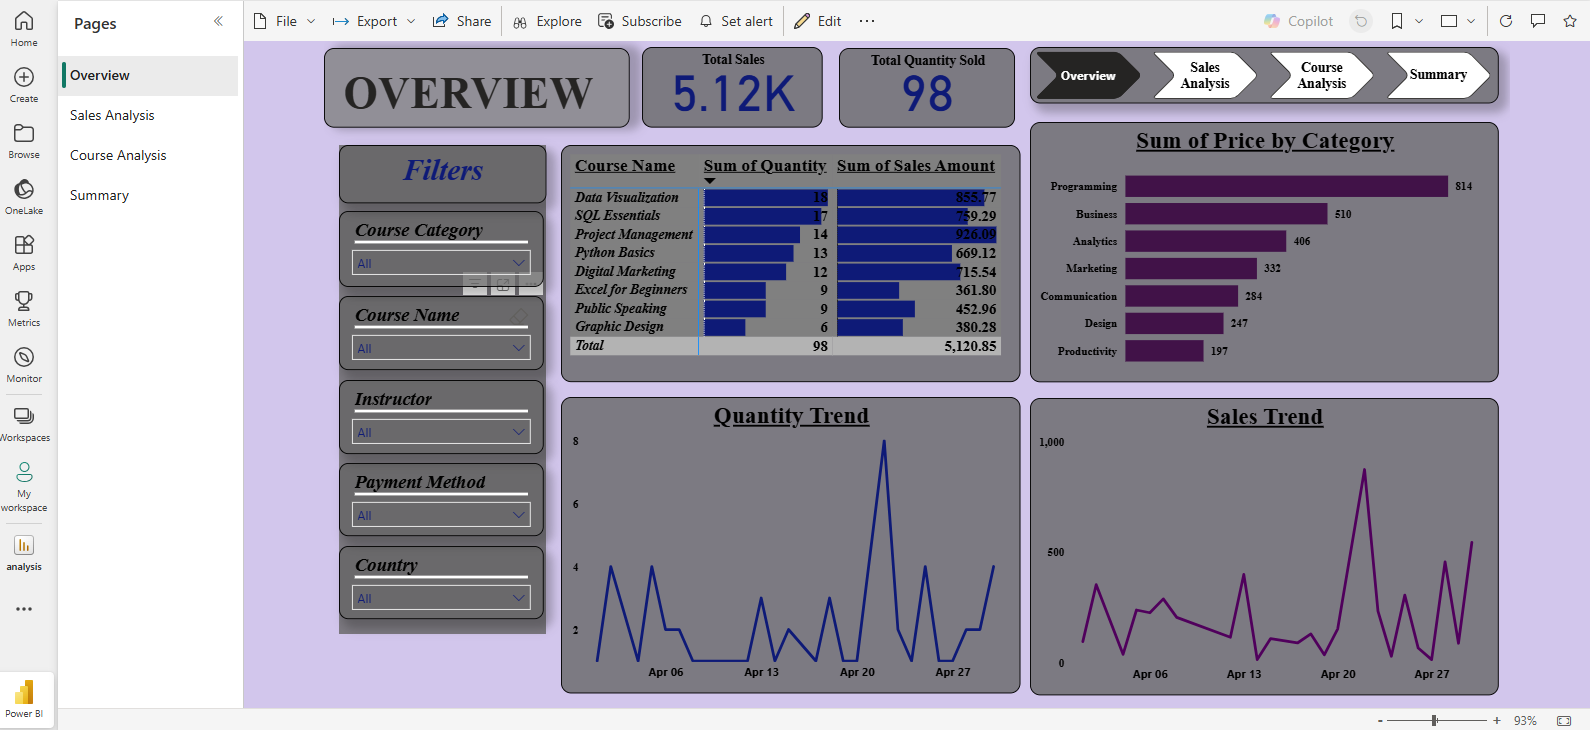

The page's visual inventory and layout, read from the dashboard file:
{"tool":"powerbi","page":{"name":"Overview","canvas":[1280,720],"ordinal":0},"visuals":[{"type":"slicer","fields":{"Values":["Project 2;Online_Course_Sales.Course Name"]},"box":[16.2,295.2,220.4,89.7],"z":0,"group":"g1"},{"type":"lineChart","title":"Quantity Trend","fields":{"Y":["CountNonNull(Project 2;Online_Course_Sales.Quantity)"],"Category":["Project 2;Online_Course_Sales.Order Date.Variation.Date Hierarchy.Year","Project 2;Online_Course_Sales.Order Date.Variation.Date Hierarchy.Quarter","Project 2;Online_Course_Sales.Order Date.Variation.Date Hierarchy.Month","Project 2;Online_Course_Sales.Order Date.Variation.Date Hierarchy.Day"]},"box":[256,384,496,320],"z":0},{"type":"card","title":"Total Quantity Sold","fields":{"Values":["Measures Table.Total Quantity sold"]},"box":[556,8,190,86],"z":1000},{"type":"slicer","fields":{"Values":["Project 2;Online_Course_Sales.Category"]},"box":[16.2,192,220.4,91.9],"z":1000,"group":"g1"},{"type":"textbox","box":[0,8,330,86],"z":2000},{"type":"slicer","fields":{"Values":["Project 2;Online_Course_Sales.Country"]},"box":[16.2,596.8,220.4,89],"z":2000,"group":"g1"},{"type":"lineChart","title":"Sales Trend","fields":{"Category":["Project 2;Online_Course_Sales.Order Date.Variation.Date Hierarchy.Year","Project 2;Online_Course_Sales.Order Date.Variation.Date Hierarchy.Quarter","Project 2;Online_Course_Sales.Order Date.Variation.Date Hierarchy.Month","Project 2;Online_Course_Sales.Order Date.Variation.Date Hierarchy.Day"],"Y":["Sum(Project 2;Online_Course_Sales.Total)"]},"box":[762,385,506,321],"z":3000},{"type":"slicer","fields":{"Values":["Project 2;Online_Course_Sales.Payment Method"]},"box":[16.2,497,220.4,88.6],"z":3000,"group":"g1"},{"type":"card","title":"Total Sales","fields":{"Values":["Measures Table.Total Sales"]},"box":[343,7,195,87],"z":4000},{"type":"slicer","fields":{"Values":["Project 2;Online_Course_Sales.Instructor"]},"box":[16.2,396.1,220.4,89.7],"z":4000,"group":"g1"},{"type":"pivotTable","fields":{"Rows":["Project 2;Online_Course_Sales.Course Name"],"Values":["Sum(Project 2;Online_Course_Sales.Quantity)","Sum(Project 2;Online_Course_Sales.Sales Amount)"]},"box":[256,112,496,256],"z":5000},{"type":"pageNavigator","box":[762,7,506,61],"z":6000},{"type":"clusteredBarChart","fields":{"Category":["Project 2;Online_Course_Sales.Category"],"Y":["Sum(Project 2;Online_Course_Sales.Price)"]},"box":[762,87,506,281],"z":7000},{"type":"group","id":"g1","title":"Group 1","box":[16.2,112.3,223.4,591.5],"z":8000},{"type":"textbox","box":[16.2,112.3,223.4,70.9],"z":9003,"group":"g1"}]}

Visuals, with their boxes on the page's 1280x720 design canvas (x1, y1, x2, y2). These are canvas units, not pixel positions in the 1590x730 screenshot, which may show the page scaled, cropped or inside an application window:
slicer - Project 2;Online_Course_Sales.Course Name: 16:295:237:385
"Quantity Trend" lineChart: 256:384:752:704
"Total Quantity Sold" card: 556:8:746:94
slicer - Project 2;Online_Course_Sales.Category: 16:192:237:284
textbox: 0:8:330:94
slicer - Project 2;Online_Course_Sales.Country: 16:597:237:686
"Sales Trend" lineChart: 762:385:1268:706
slicer - Project 2;Online_Course_Sales.Payment Method: 16:497:237:586
"Total Sales" card: 343:7:538:94
slicer - Project 2;Online_Course_Sales.Instructor: 16:396:237:486
pivotTable - Project 2;Online_Course_Sales.Course Name x Sum(Project 2;Online_Course_Sales.Quantity): 256:112:752:368
pageNavigator: 762:7:1268:68
clusteredBarChart - Project 2;Online_Course_Sales.Category x Sum(Project 2;Online_Course_Sales.Price): 762:87:1268:368
"Group 1" group: 16:112:240:704
textbox: 16:112:240:183
